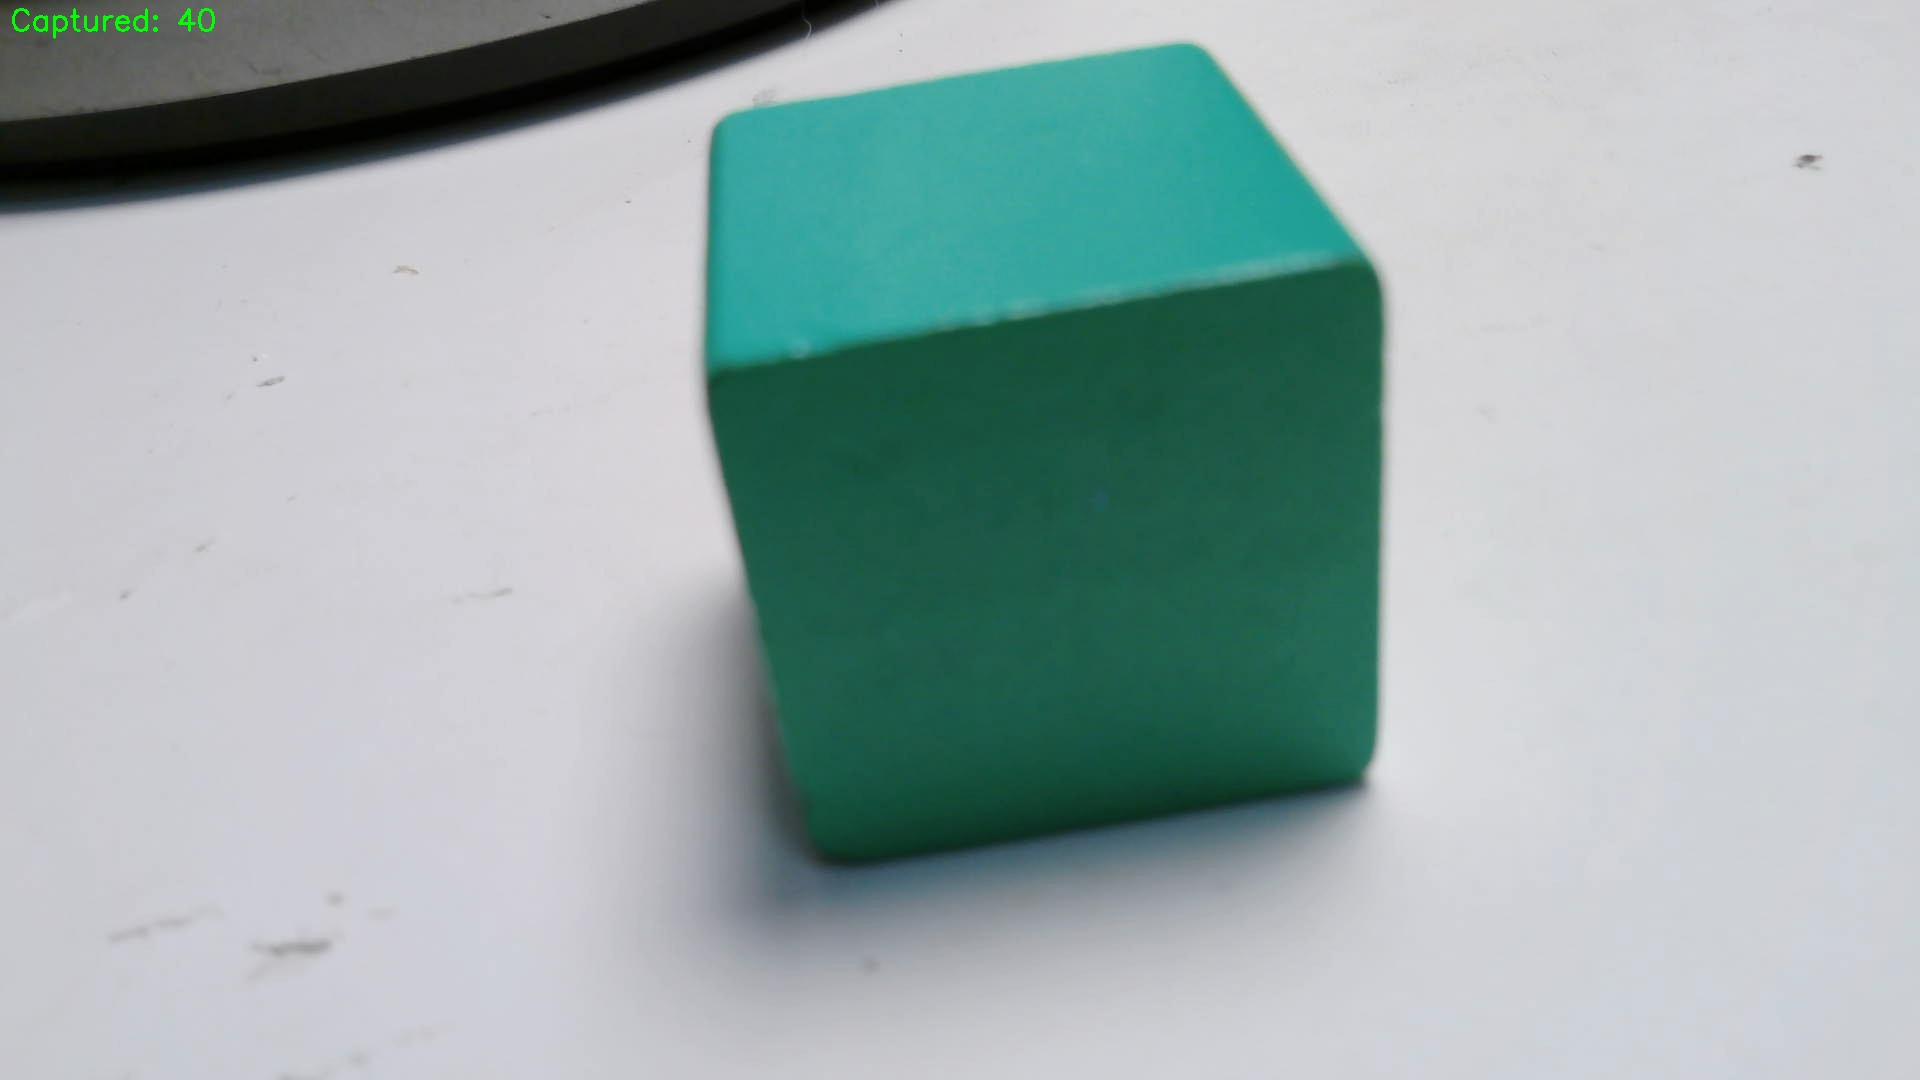green: (702, 47, 1378, 870)
